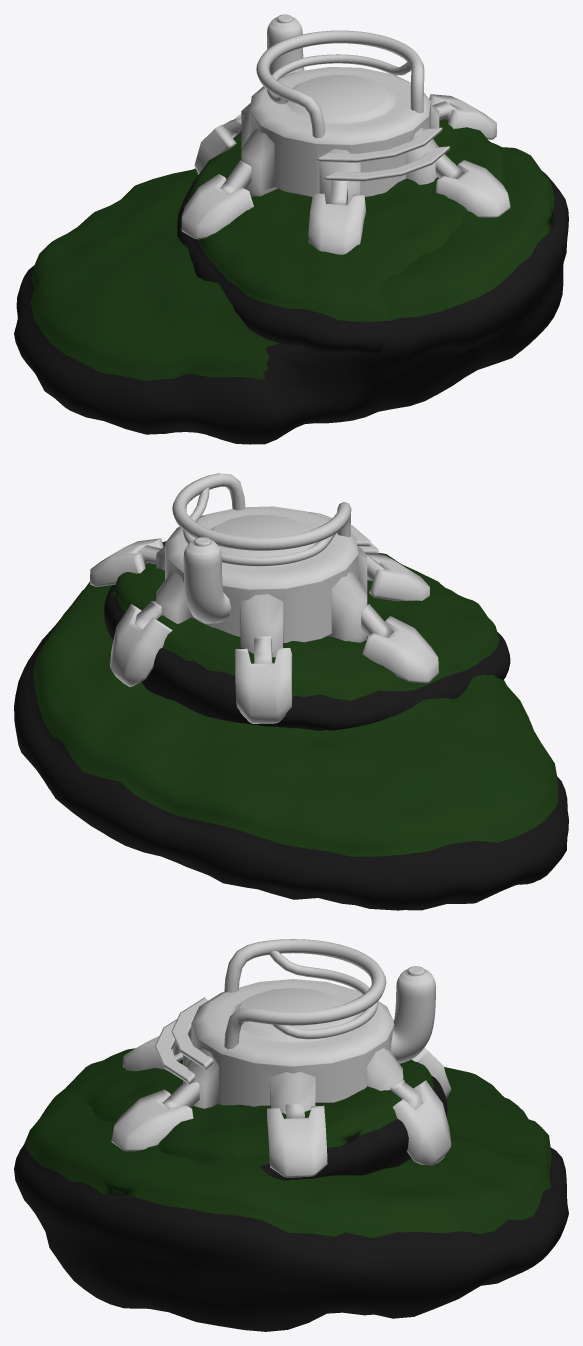
The model's file is finish.fbx.
3 views of the same model, one above another, from view 1: azimuth 30°, elevation 25°; view 2: azimuth 150°, elevation 25°; view 3: azimuth 270°, elevation 25° (orthographic). The views are drawn at different scales.
Visible parts, largest first — view 1: Rock, Finish, Cylinder.001; view 2: Rock, Finish, Cylinder.001; view 3: Rock, Finish, Cylinder.001.
Boxes of the visible parts, bbox=[...] form: Rock: bbox=[14, 118, 568, 444]; Finish: bbox=[181, 14, 510, 254]; Cylinder.001: bbox=[256, 30, 424, 138]; Rock: bbox=[14, 541, 568, 910]; Finish: bbox=[90, 506, 438, 723]; Cylinder.001: bbox=[172, 473, 351, 566]; Rock: bbox=[14, 1048, 568, 1331]; Finish: bbox=[111, 966, 451, 1177]; Cylinder.001: bbox=[224, 939, 386, 1049].
Size of the model in its own units: 601 by 362 by 546.
